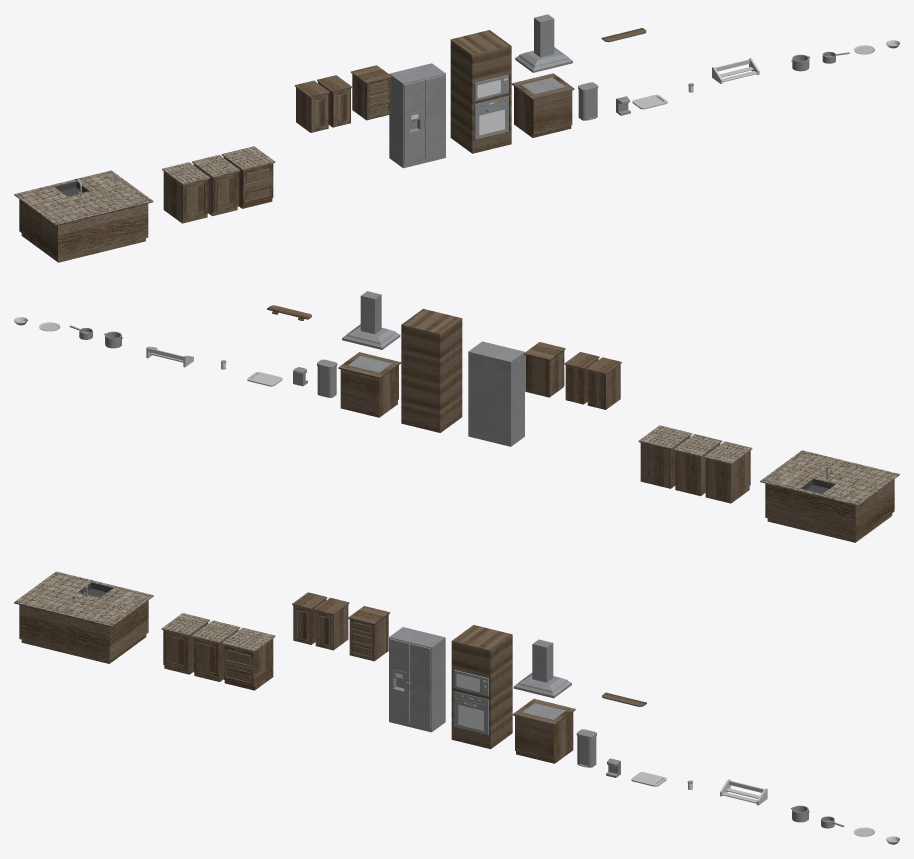
Rendered from KitchenPack.fbx.
3 views of the same model, one above another, from view 1: azimuth 30°, elevation 25°; view 2: azimuth 150°, elevation 25°; view 3: azimuth 330°, elevation 25° (orthographic).
Visible parts, largest first — view 1: Cube.008, Cube.011, Cube, Cube.001, Cube.006, Cube.004, Cube.010, Cube.005, Cube.002, Cube.009, Cube.012, Cube.007 (+3 smaller); view 2: Cube.008, Cube, Cube.011, Cube.001, Cube.006, Cube.004, Cube.010, Cube.005, Cube.002, Cube.009, Cube.007, Cube.014; view 3: Cube.008, Cube.011, Cube, Cube.001, Cube.004, Cube.010, Cube.006, Cube.005, Cube.002, Cube.007, Cube.012, Cube.009 (+3 smaller).
Boxes of the visible parts, x1,y1,x2,y2 form: Cube.008: (14, 170, 153, 262); Cube.011: (389, 63, 445, 168); Cube: (450, 30, 511, 153); Cube.001: (511, 73, 574, 137); Cube.006: (162, 162, 210, 223); Cube.004: (221, 146, 275, 208); Cube.010: (351, 65, 392, 120); Cube.005: (192, 155, 240, 216); Cube.002: (515, 14, 572, 72); Cube.009: (294, 80, 329, 132); Cube.012: (474, 96, 508, 139); Cube.007: (317, 75, 351, 127); Cube.008: (760, 450, 899, 542); Cube: (401, 308, 462, 432); Cube.011: (468, 341, 524, 446); Cube.001: (338, 352, 401, 417); Cube.006: (704, 441, 752, 503); Cube.004: (638, 425, 692, 488); Cube.010: (523, 342, 565, 397); Cube.005: (673, 434, 722, 496); Cube.002: (342, 291, 400, 349); Cube.009: (586, 357, 621, 409); Cube.007: (564, 352, 599, 404); Cube.014: (317, 359, 337, 397); Cube.008: (14, 571, 153, 663); Cube.011: (389, 627, 445, 732); Cube: (451, 625, 512, 749); Cube.001: (512, 698, 575, 763); Cube.004: (221, 627, 275, 690); Cube.010: (348, 606, 390, 661); Cube.006: (161, 613, 209, 674); Cube.005: (191, 620, 240, 681); Cube.002: (513, 639, 571, 698); Cube.007: (314, 597, 349, 650); Cube.012: (454, 691, 488, 734); Cube.009: (292, 592, 327, 644).
Bounding box in the file's own units: 6409 × 803 × 540.
